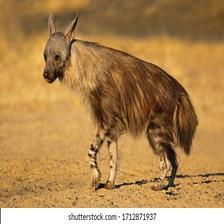hyena: (37, 11, 199, 197)
